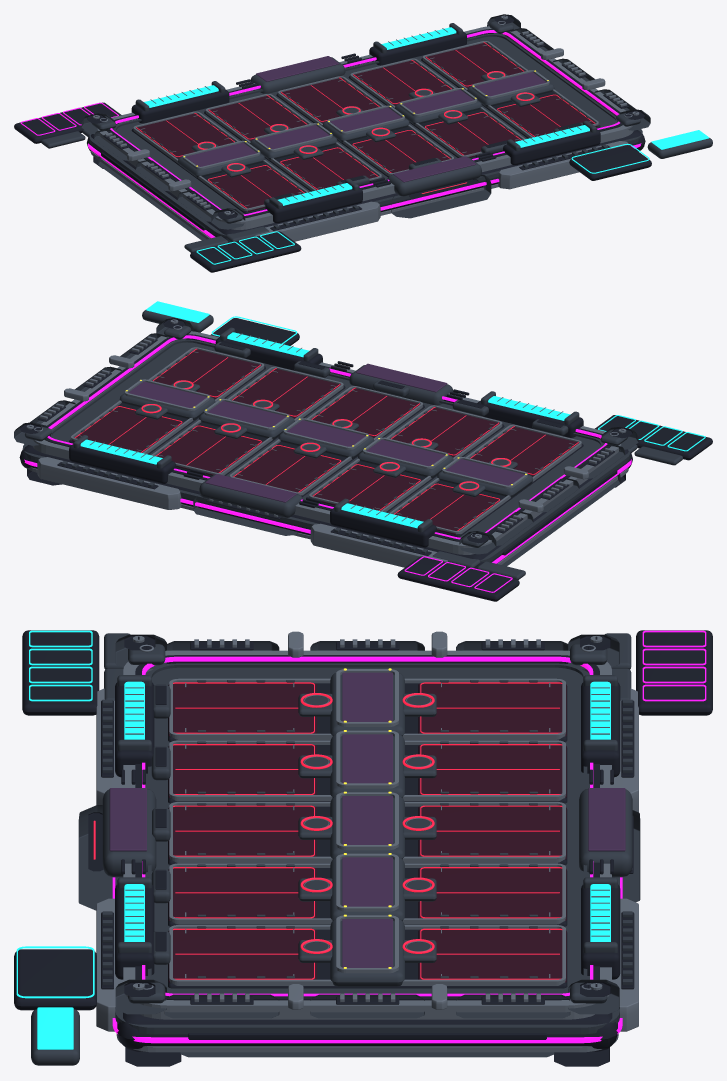
The model's file is ouroboros-board-v2.glb.
3 views of the same model, one above another, from view 1: azimuth 30°, elevation 25°; view 2: azimuth 150°, elevation 25°; view 3: azimuth 270°, elevation 25° (orthographic). The views are drawn at different scales.
Visible parts, largest first — view 1: Table_graphite_titanium, Table_wine-black_field_glass, Table_obsidian_polymer, Table_milled_gunmetal, Table_Location_smoked_violet, Table_cyan_Data_Center_core, Table_restrained_red_traces, Table_magenta_inlay; view 2: Table_graphite_titanium, Table_wine-black_field_glass, Table_milled_gunmetal, Table_obsidian_polymer, Table_Location_smoked_violet, Table_cyan_Data_Center_core, Table_magenta_inlay, Table_restrained_red_traces; view 3: Table_wine-black_field_glass, Table_graphite_titanium, Table_obsidian_polymer, Table_milled_gunmetal, Table_Location_smoked_violet, Table_restrained_red_traces, Table_cyan_Data_Center_core, Table_magenta_inlay.
Part boxes in pixels (<box>): Table_graphite_titanium: <box>41,14,712,252</box>; Table_wine-black_field_glass: <box>136,43,597,211</box>; Table_obsidian_polymer: <box>14,14,651,272</box>; Table_milled_gunmetal: <box>90,15,639,241</box>; Table_Location_smoked_violet: <box>185,56,546,182</box>; Table_cyan_Data_Center_core: <box>144,27,709,264</box>; Table_restrained_red_traces: <box>136,42,595,208</box>; Table_magenta_inlay: <box>20,30,641,238</box>; Table_graphite_titanium: <box>14,310,682,579</box>; Table_wine-black_field_glass: <box>72,349,578,534</box>; Table_milled_gunmetal: <box>26,319,628,567</box>; Table_obsidian_polymer: <box>19,318,712,601</box>; Table_Location_smoked_violet: <box>128,363,524,502</box>; Table_cyan_Data_Center_core: <box>80,301,705,528</box>; Table_magenta_inlay: <box>24,335,631,592</box>; Table_restrained_red_traces: <box>74,348,578,530</box>; Table_wine-black_field_glass: <box>168,683,566,982</box>; Table_graphite_titanium: <box>31,633,640,1065</box>; Table_obsidian_polymer: <box>14,630,712,1066</box>; Table_milled_gunmetal: <box>96,631,638,1052</box>; Table_Location_smoked_violet: <box>109,672,625,967</box>; Table_restrained_red_traces: <box>93,682,562,979</box>; Table_cyan_Data_Center_core: <box>16,630,610,1049</box>; Table_magenta_inlay: <box>112,630,706,1043</box>.
Size of the model in its own units: 19.6 by 1.73 by 13.44.
